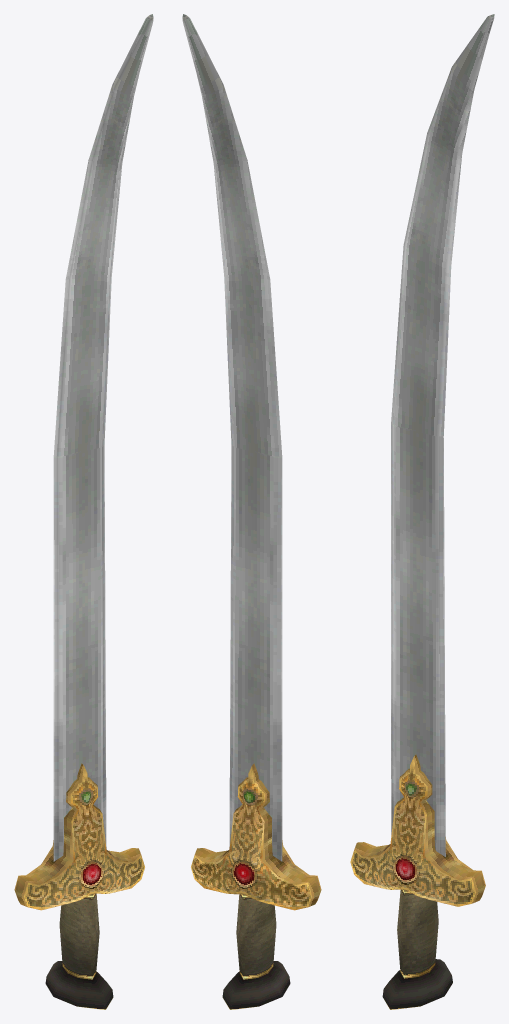
Rendered from ps2_save-icons_chandraguptawarriorprince.glb.
3 views of the same model, side by side, from view 1: azimuth 30°, elevation 25°; view 2: azimuth 150°, elevation 25°; view 3: azimuth 330°, elevation 25° (orthographic). The views are drawn at different scales.
Parts seen in each view (by area): view 1: chand.ico; view 2: chand.ico; view 3: chand.ico.
Boxes of the visible parts, x1=… form: chand.ico: x1=14, y1=14, x2=153, y2=1009; chand.ico: x1=182, y1=14, x2=321, y2=1009; chand.ico: x1=350, y1=14, x2=494, y2=1009.
Bounding box in the file's own units: 0.594 × 4.01 × 0.4019.
Materials: 1 (1 with a texture image).
